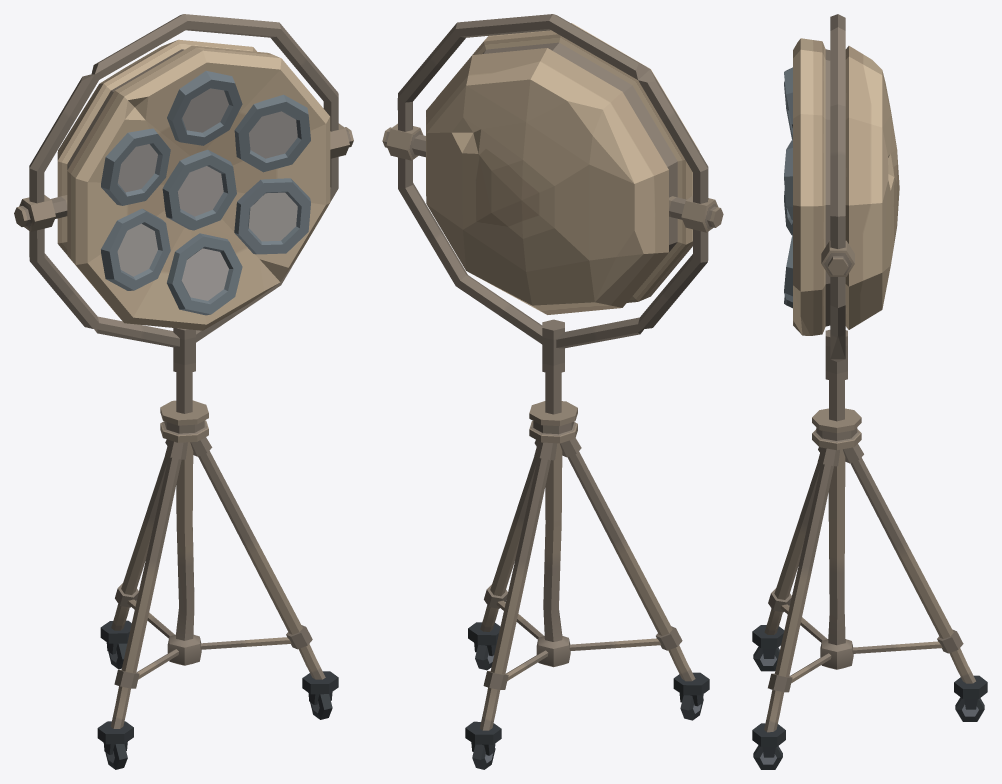
The model's file is SM_Prop_Lamp_02.fbx.
The picture shows the model from 3 angles, left to right: view 1: azimuth 30°, elevation 25°; view 2: azimuth 150°, elevation 25°; view 3: azimuth 270°, elevation 25°; orthographic projection.
Parts seen in each view (by area): view 1: SM_Prop_Lamp_02_Light_01, SM_Prop_Lamp_02; view 2: SM_Prop_Lamp_02_Light_01, SM_Prop_Lamp_02; view 3: SM_Prop_Lamp_02, SM_Prop_Lamp_02_Light_01.
Part boxes in pixels (x1,y1,x2,y2): SM_Prop_Lamp_02_Light_01: (57, 39, 330, 330); SM_Prop_Lamp_02: (14, 14, 353, 769); SM_Prop_Lamp_02_Light_01: (426, 23, 699, 314); SM_Prop_Lamp_02: (382, 14, 723, 769); SM_Prop_Lamp_02: (752, 14, 987, 769); SM_Prop_Lamp_02_Light_01: (784, 38, 899, 335).
Bounding box in the file's own units: 153 × 311 × 95.98.
